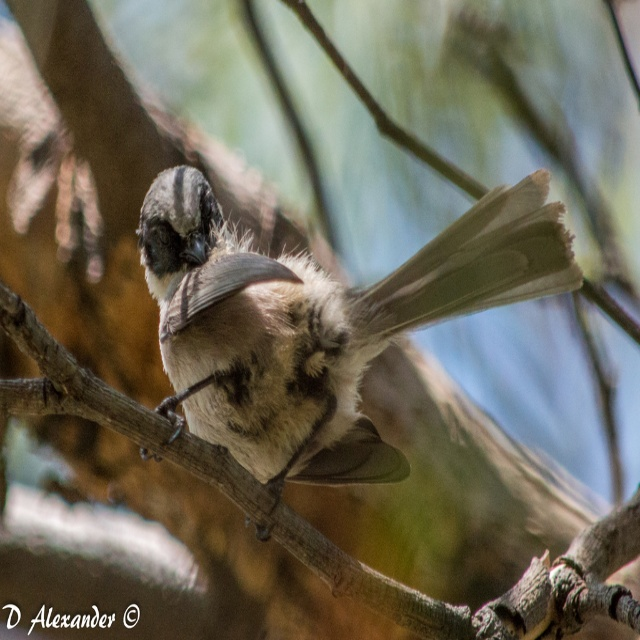Sparrow: (134, 163, 584, 542)
